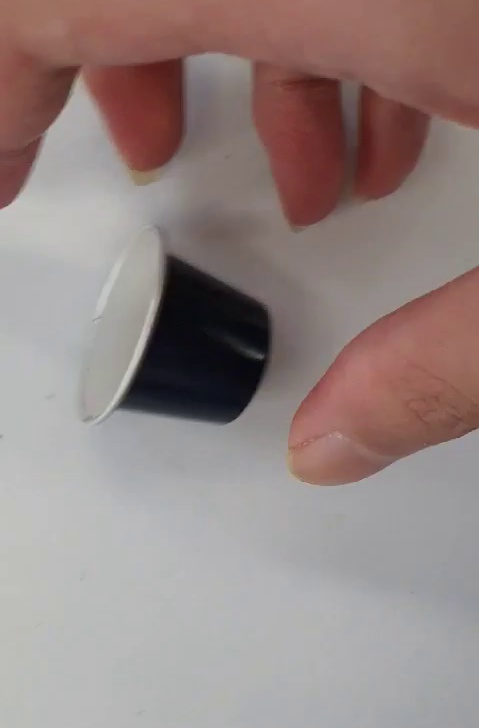capsule_1: (78, 221, 277, 429)
